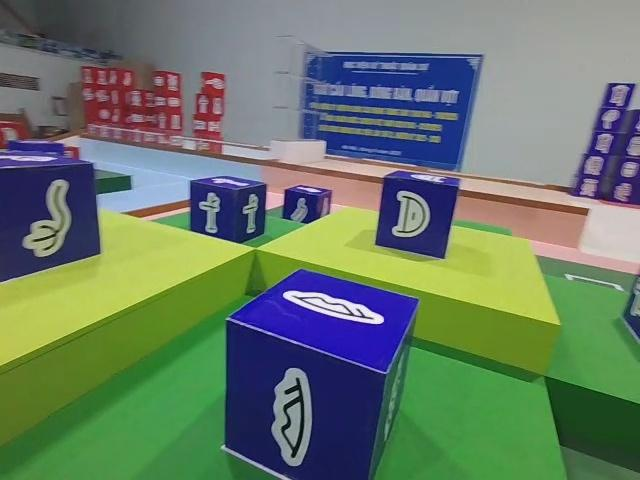R2 Real Blue: (230, 262, 424, 467), (3, 153, 104, 289), (374, 171, 462, 262), (189, 177, 268, 246), (280, 186, 331, 226)
